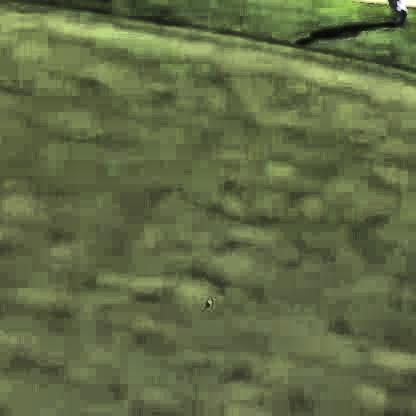golfball: (203, 296, 210, 303)
